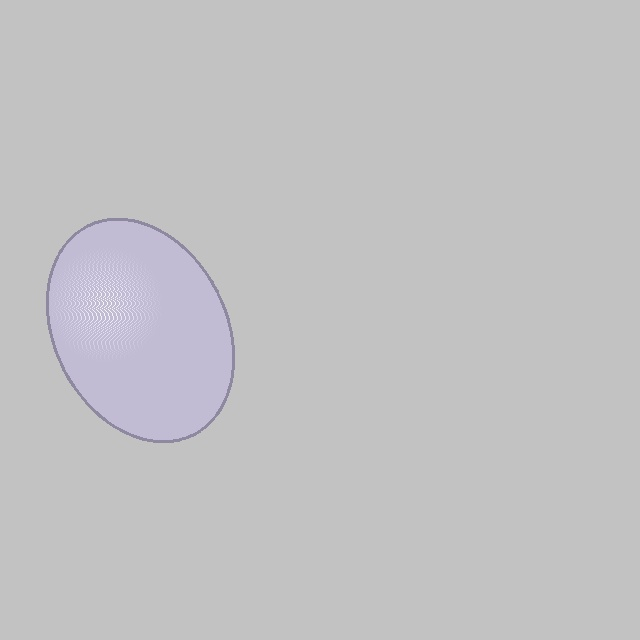lens: (47, 219, 233, 441)
